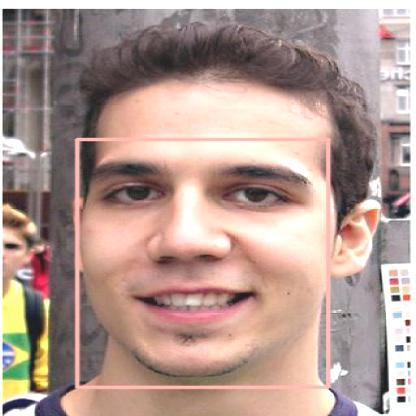without_mask: (77, 139, 328, 387)
